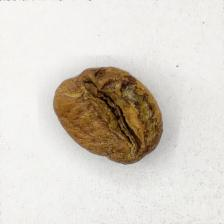NG: (76, 70, 158, 155)
